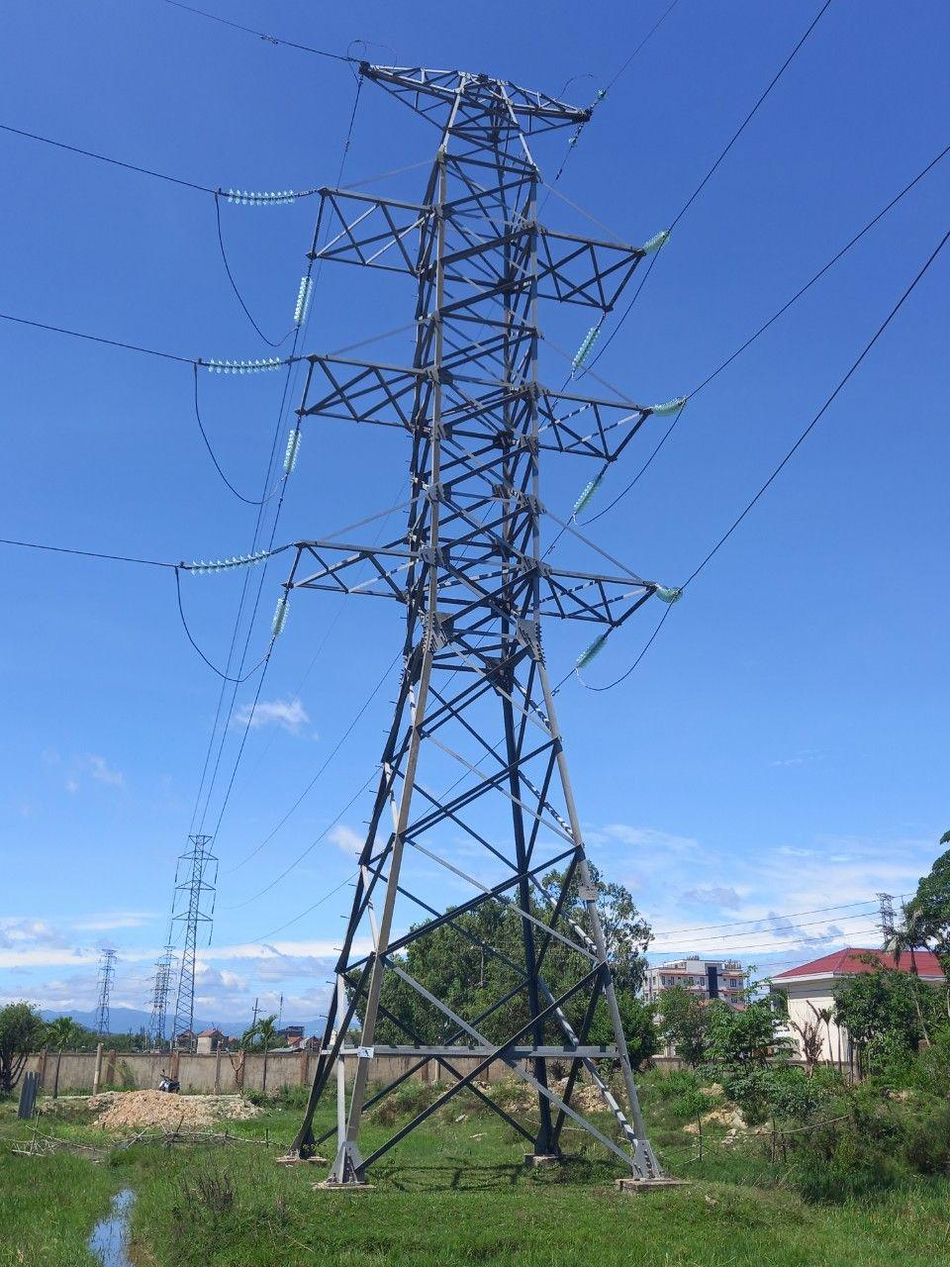tower: (239, 28, 718, 1208)
